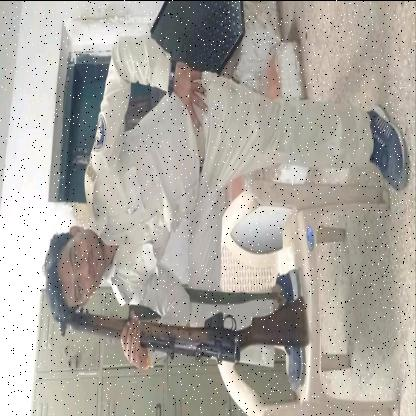rifle: (54, 292, 311, 368)
